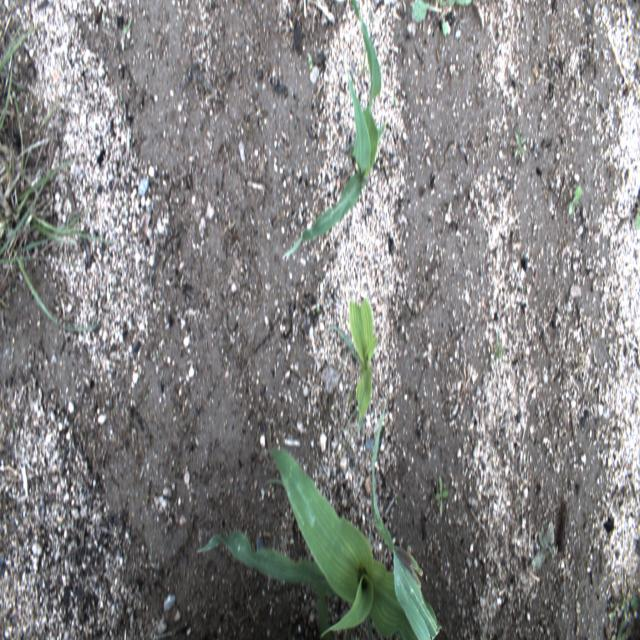crop: (205, 392, 441, 636), (283, 0, 388, 258), (346, 294, 379, 425)
weed: (0, 48, 104, 334), (406, 0, 468, 43), (530, 526, 552, 566), (433, 472, 450, 518), (567, 183, 582, 216), (514, 130, 524, 156), (123, 19, 133, 42), (307, 53, 314, 72), (392, 94, 397, 105)
